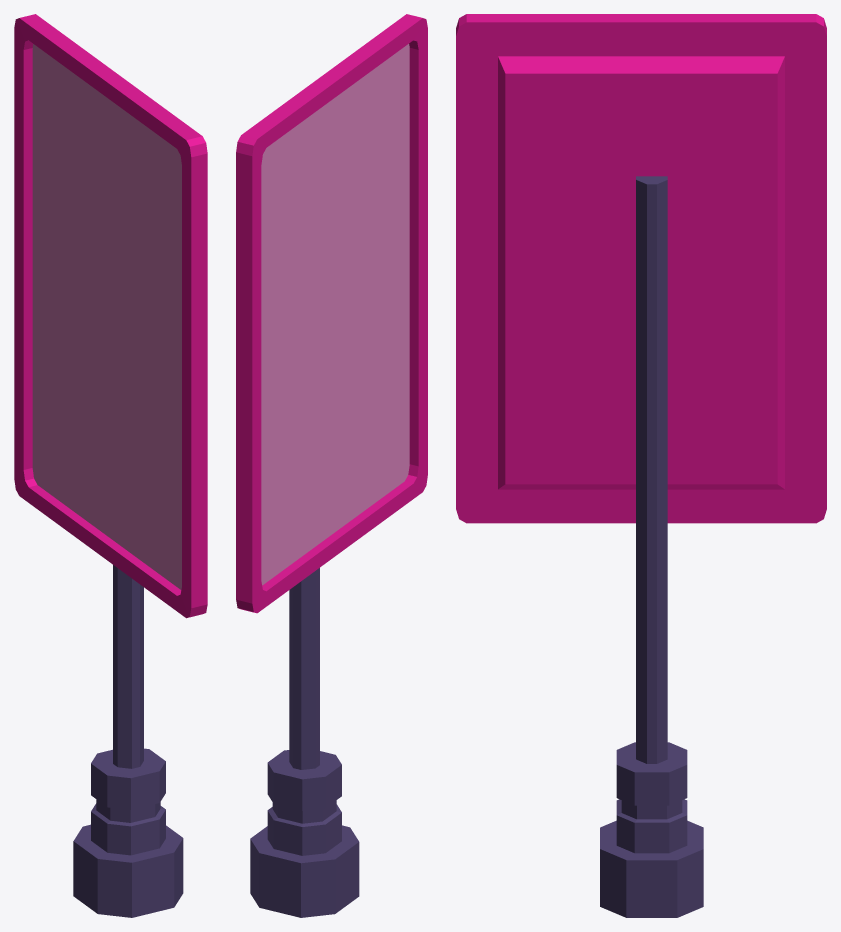
The model's file is affiche_sur_pied.fbx.
The picture shows the model from 3 angles, left to right: view 1: azimuth 30°, elevation 25°; view 2: azimuth 150°, elevation 25°; view 3: azimuth 270°, elevation 25°; orthographic projection. The views are drawn at different scales.
Visible parts, largest first — view 1: Cube.005, Cube.008, Cube.006; view 2: Cube.005, Cube.008, Cube.006; view 3: Cube.005, Cube.006, Cube.008.
Boxes of the visible parts, <box> form: Cube.005: <box>14,14,207,618</box>; Cube.008: <box>73,748,183,917</box>; Cube.006: <box>113,565,143,768</box>; Cube.005: <box>236,14,427,613</box>; Cube.008: <box>250,750,359,917</box>; Cube.006: <box>289,568,319,769</box>; Cube.005: <box>456,14,826,523</box>; Cube.006: <box>636,176,667,763</box>; Cube.008: <box>600,742,703,917</box>.
Size of the model in its own units: 37.49 by 346 by 134.
